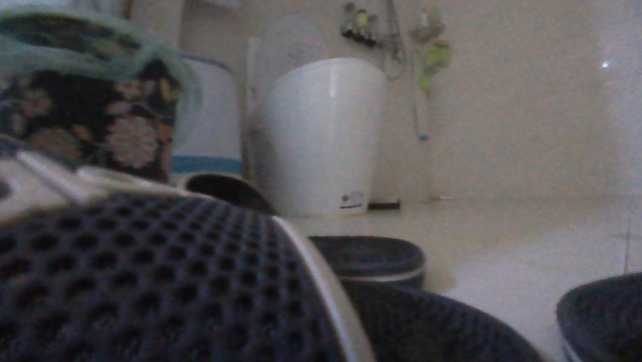toilet: (243, 11, 390, 221)
trash_can: (0, 0, 191, 191)
